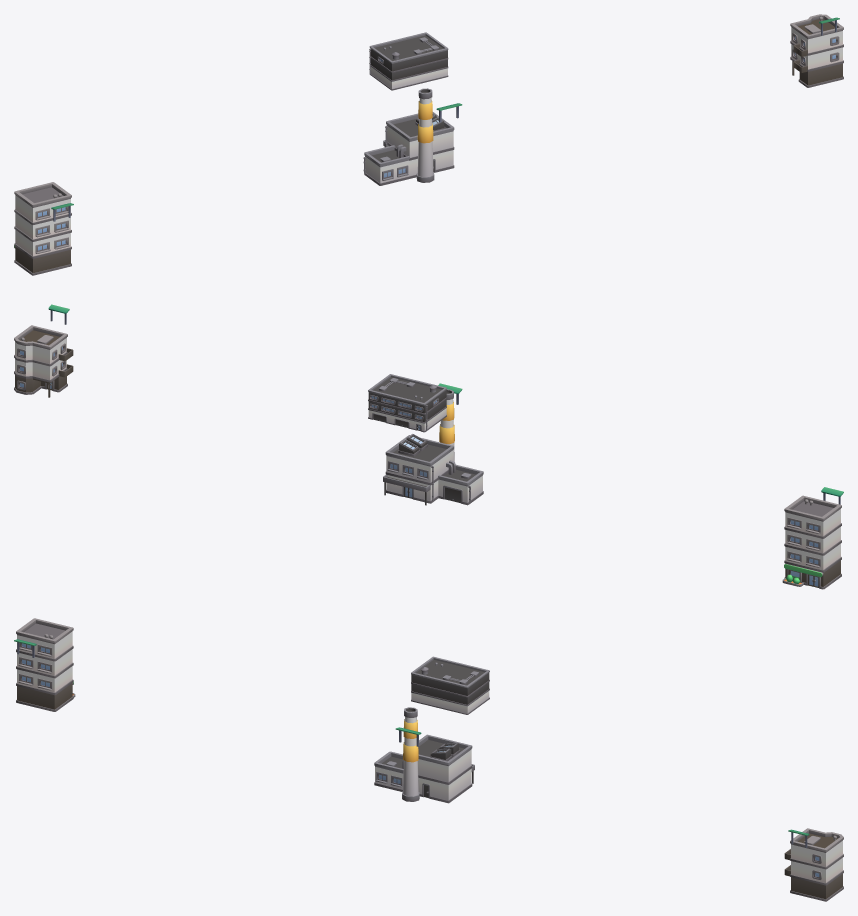
The model's file is wf02-commercial-frontage-shell.glb.
The picture shows the model from 3 angles, top to bottom: view 1: azimuth 30°, elevation 25°; view 2: azimuth 150°, elevation 25°; view 3: azimuth 330°, elevation 25°; orthographic projection.
Parts seen in each view (by area): view 1: building-l, building-f, building-a, building-b; view 2: building-l, building-f, building-a, building-b; view 3: building-l, building-f, building-a, building-b.
Boxes of the visible parts, x1,y1,x2,y2 form: building-l: (363, 88, 454, 185); building-f: (14, 182, 71, 275); building-a: (369, 32, 448, 90); building-b: (790, 14, 843, 87); building-l: (383, 389, 483, 505); building-f: (782, 495, 841, 589); building-a: (368, 374, 446, 432); building-b: (14, 325, 73, 397); building-l: (374, 707, 474, 803); building-f: (16, 618, 75, 711); building-a: (411, 656, 489, 714); building-b: (784, 828, 843, 901).
Size of the model in its own units: 23.17 by 3.08 by 2.68.
Materials: 9 (9 with a texture image).
